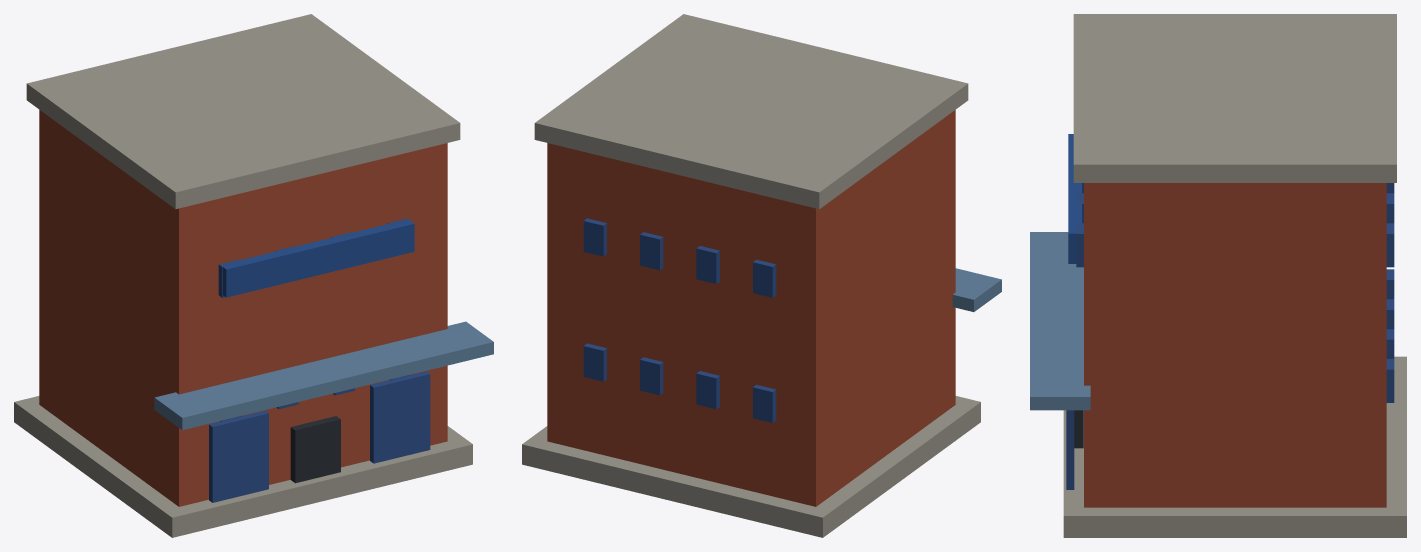
Rendered from bld_commercial_a05.glb.
The picture shows the model from 3 angles, left to right: view 1: azimuth 30°, elevation 25°; view 2: azimuth 150°, elevation 25°; view 3: azimuth 270°, elevation 25°; orthographic projection. The views are drawn at different scales.
Parts seen in each view (by area): view 1: body; view 2: body; view 3: body.
Part boxes in pixels (x1,y1,x2,y2): body: [14, 14, 493, 537]; body: [522, 14, 1001, 537]; body: [1030, 14, 1406, 537].
Size of what is drawn, in the model's own units: 5.8 by 6.05 by 5.6.
